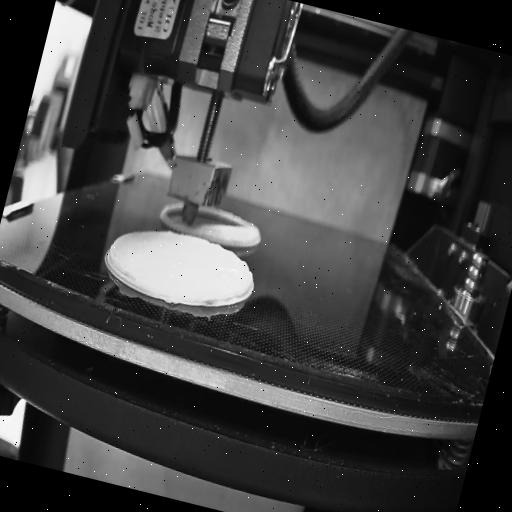over_extrusion: (102, 240, 142, 282), (225, 254, 258, 300)
